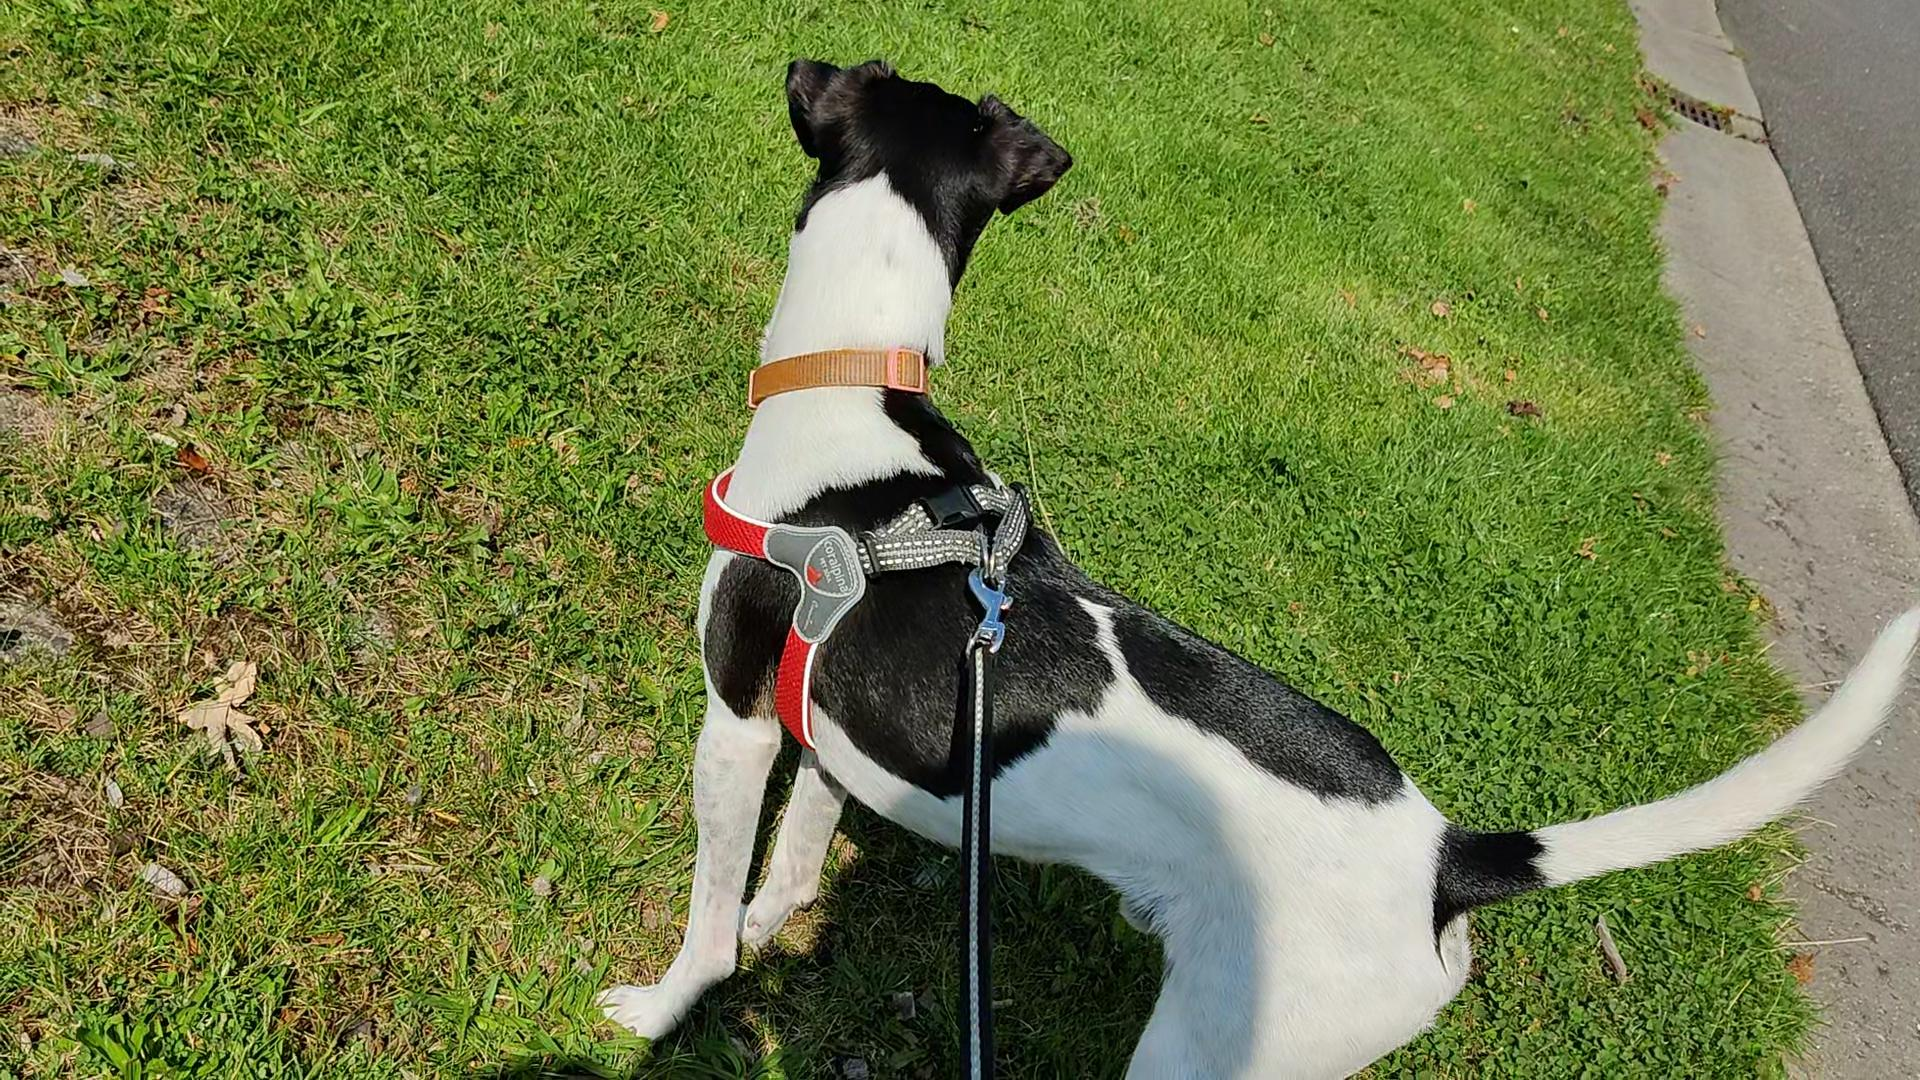Dog: (587, 55, 1919, 1079)
